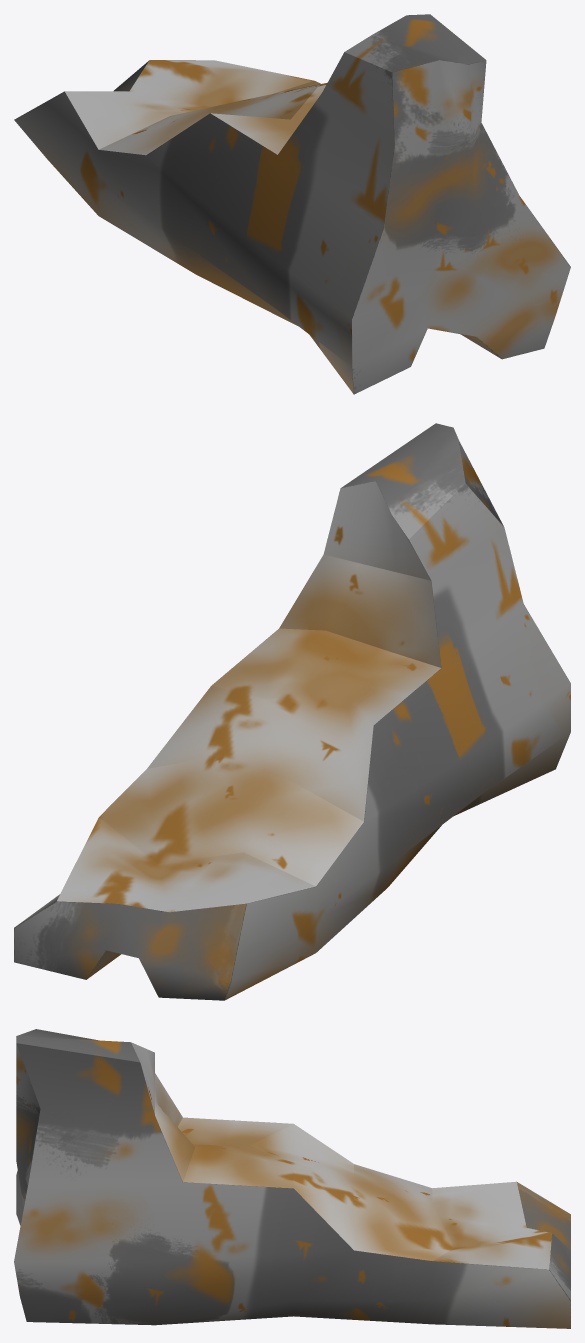
Rendered from barricade_04.fbx.
3 renders of one model, top to bottom at view 1: azimuth 30°, elevation 25°; view 2: azimuth 150°, elevation 25°; view 3: azimuth 270°, elevation 25°, orthographic. The views are drawn at different scales.
Parts seen in each view (by area): view 1: barricade_4; view 2: barricade_4; view 3: barricade_4.
Boxes of the visible parts, <box> form: barricade_4: <box>14,14,570,394</box>; barricade_4: <box>14,423,570,1000</box>; barricade_4: <box>14,1029,570,1328</box>.
Bounding box in the file's own units: 2.42 × 3.28 × 6.53.
